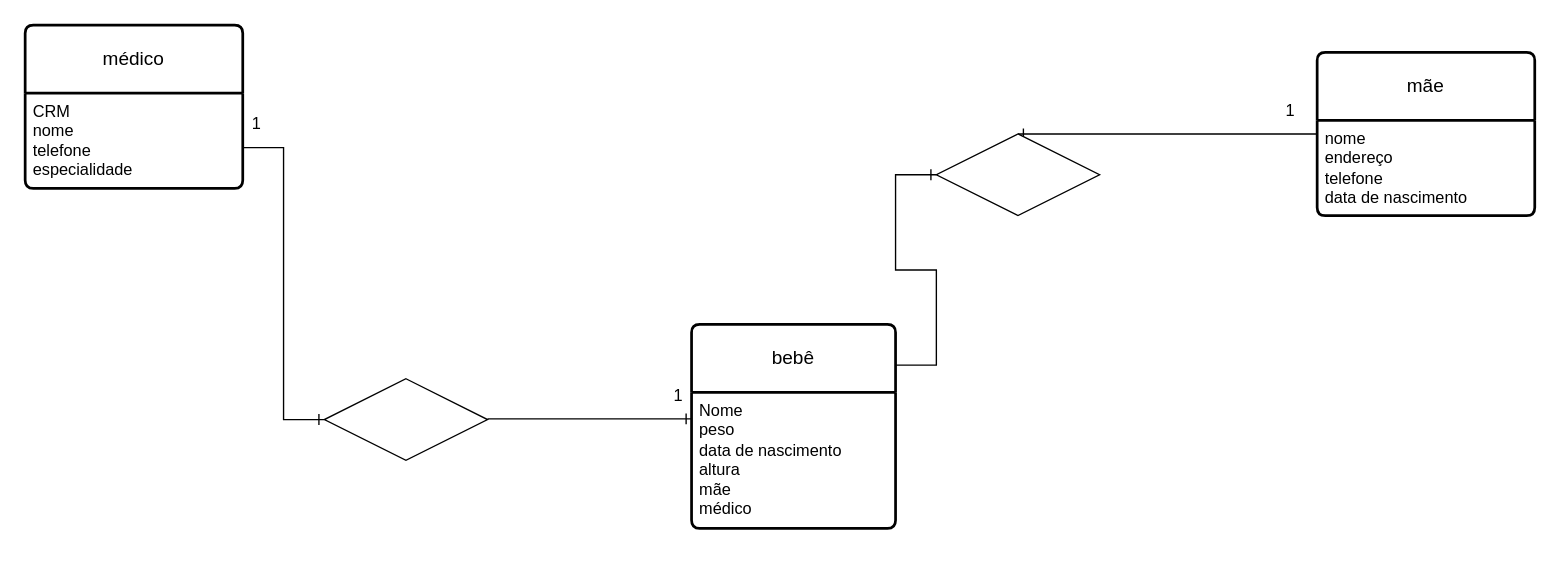
Some shapes in this 1559 by 562 pixel diagram are drawn without their labels. The centre of each missing label's shape, as x and y in pixels:
"realizar o parto" belongs at (405,418).
"ter" belongs at (1017,174).
